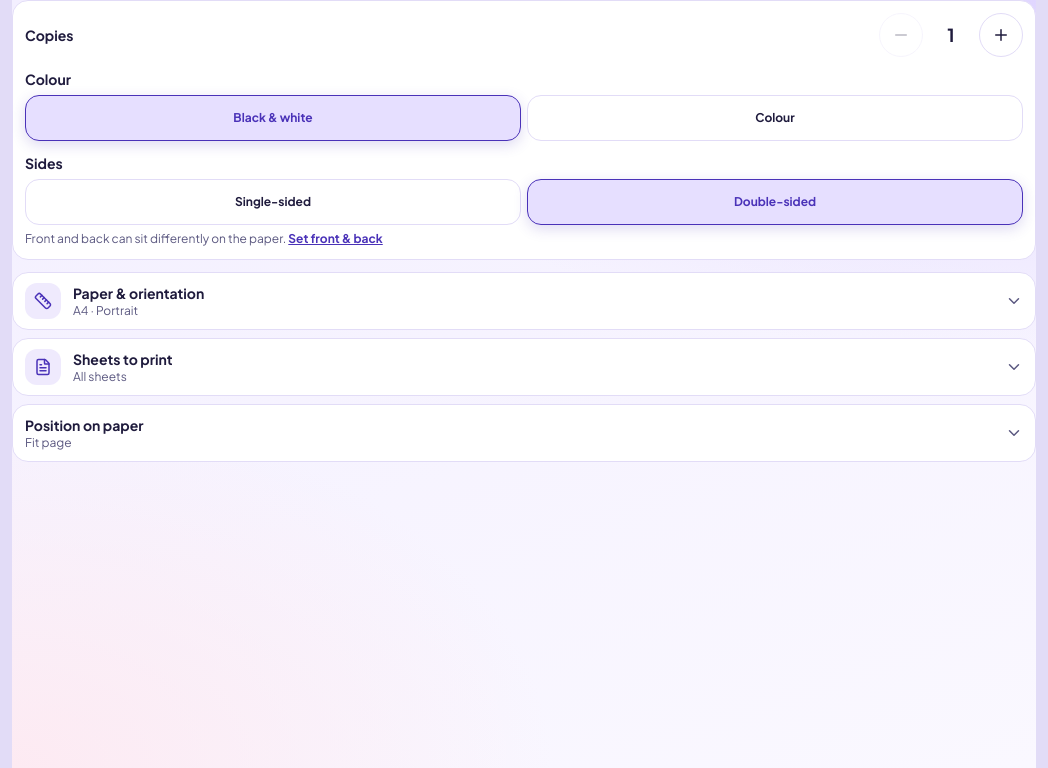
Test: extra sections from the page are listed and can be opened by the "set front & back" link
Expected: the text "position controls" is not shown
Click the button "Set front & back" at (336, 239), box [288,231,383,247]
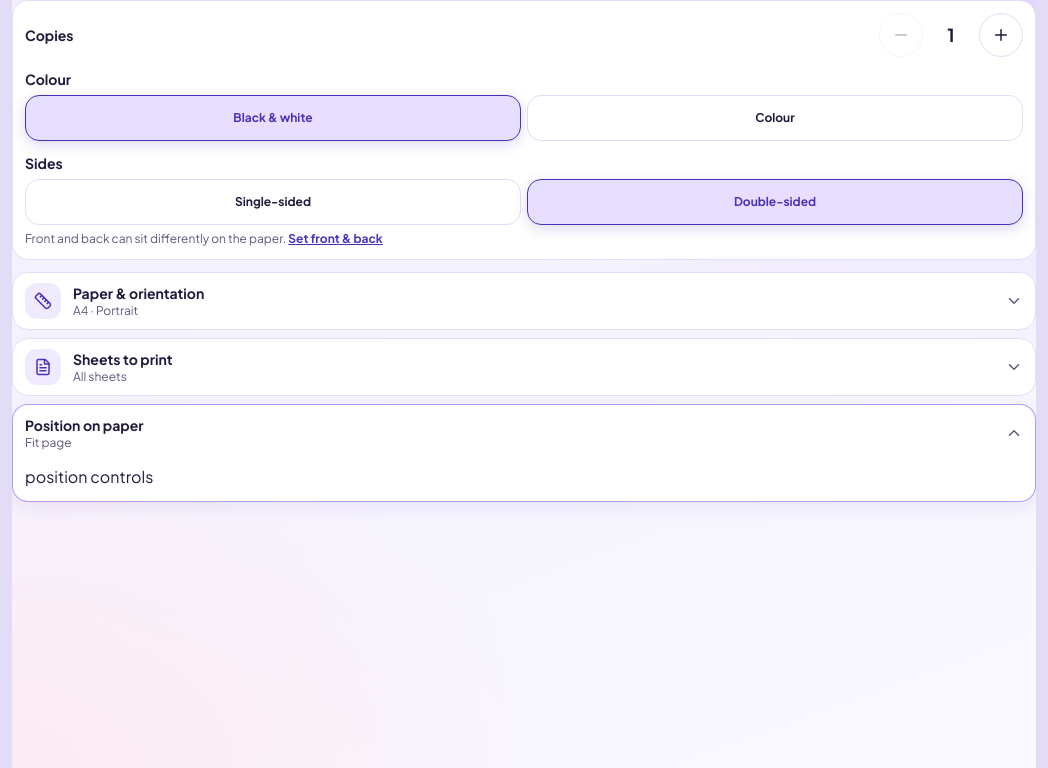
Expected: the text "position controls" is shown, [25,466,153,487]
